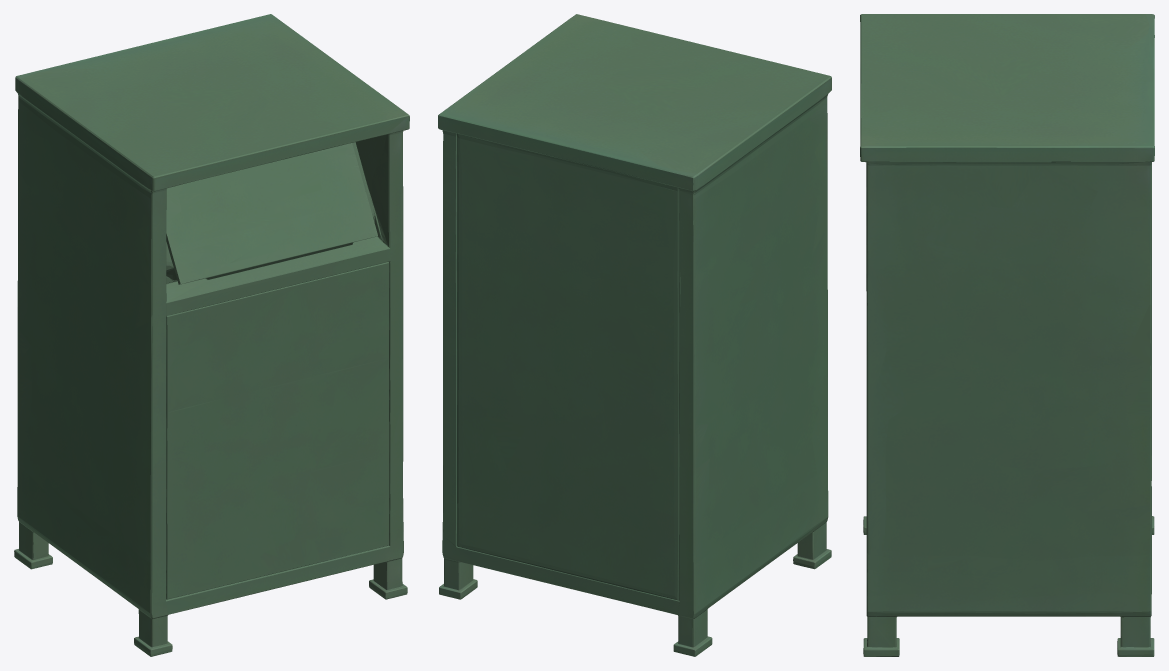
The model's file is clothing_bin.glb.
The picture shows the model from 3 angles, left to right: view 1: azimuth 30°, elevation 25°; view 2: azimuth 150°, elevation 25°; view 3: azimuth 270°, elevation 25°; orthographic projection. The views are drawn at different scales.
Visible parts, largest first — view 1: clothing_bin; view 2: clothing_bin; view 3: clothing_bin.
Boxes of the visible parts, x1,y1,x2,y2 form: clothing_bin: [14, 14, 409, 656]; clothing_bin: [438, 14, 831, 656]; clothing_bin: [860, 14, 1154, 656].
Size of the model in its own units: 1.01 by 1.8 by 0.9412.
1 material, 1 textured.
